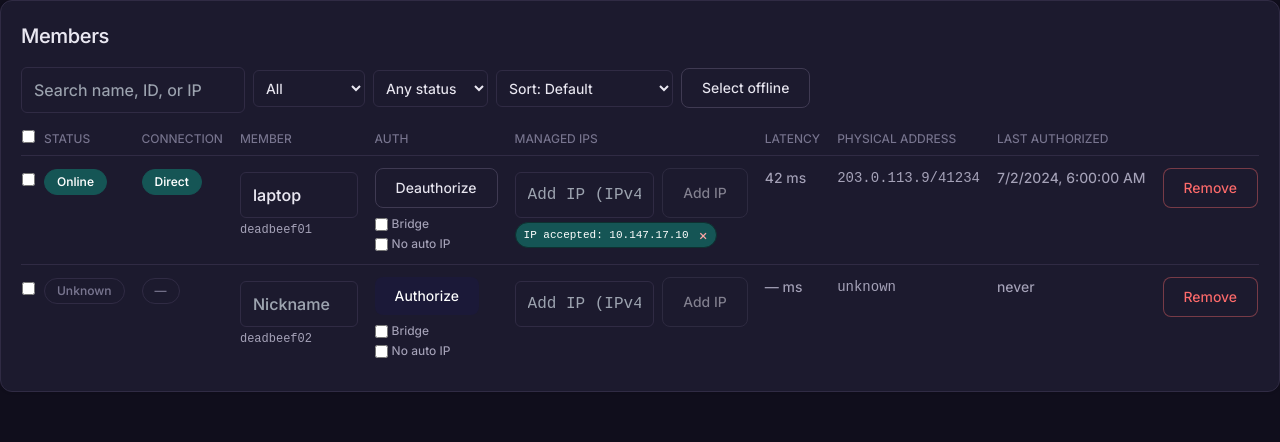
Test: MemberTable › surfaces the parsed controller error message when Remove DELETE fails
Expected: the text "deadbeef02" is shown, [240,332,312,346]
Click the button "Remove" in the row of "Online".
click(1210, 188)  # box [1162,168,1258,208]
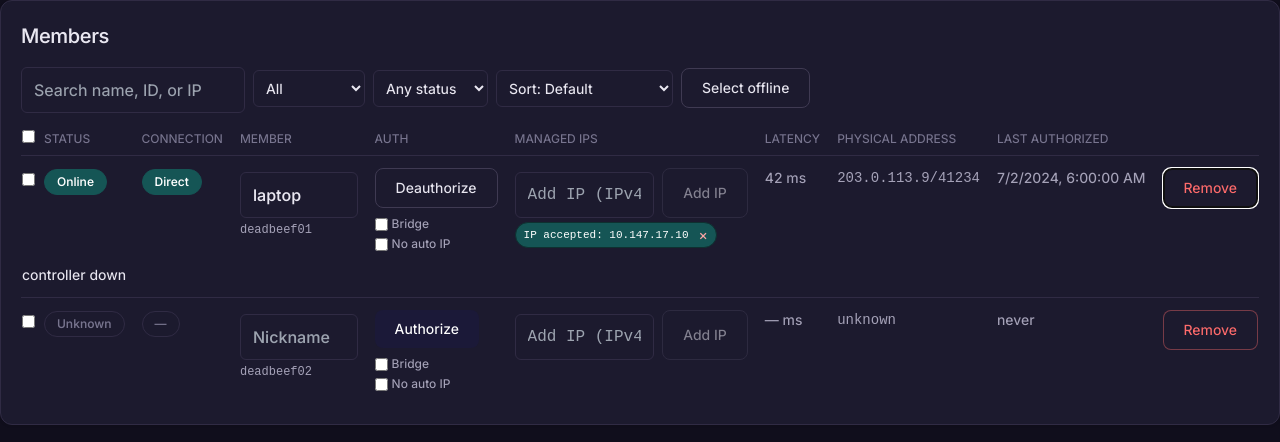
Now the message reads "controller down", box [22,266,126,283]
